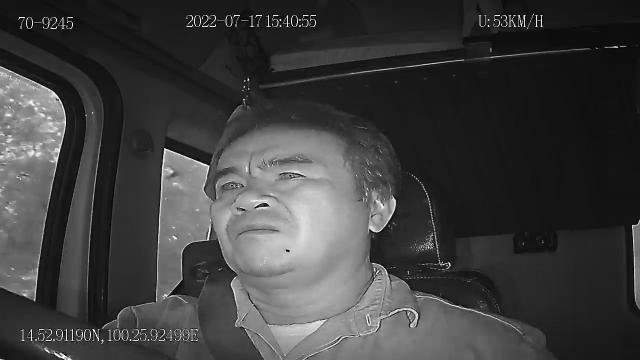SafeDriving: (267, 160, 318, 190), (212, 171, 250, 198)
Seatbelt: (195, 270, 267, 360)
